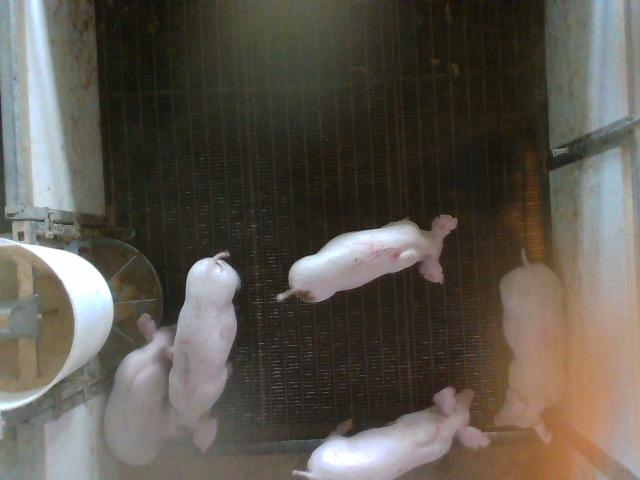pig-3: (164, 251, 240, 451)
pig-5: (276, 215, 458, 302)
